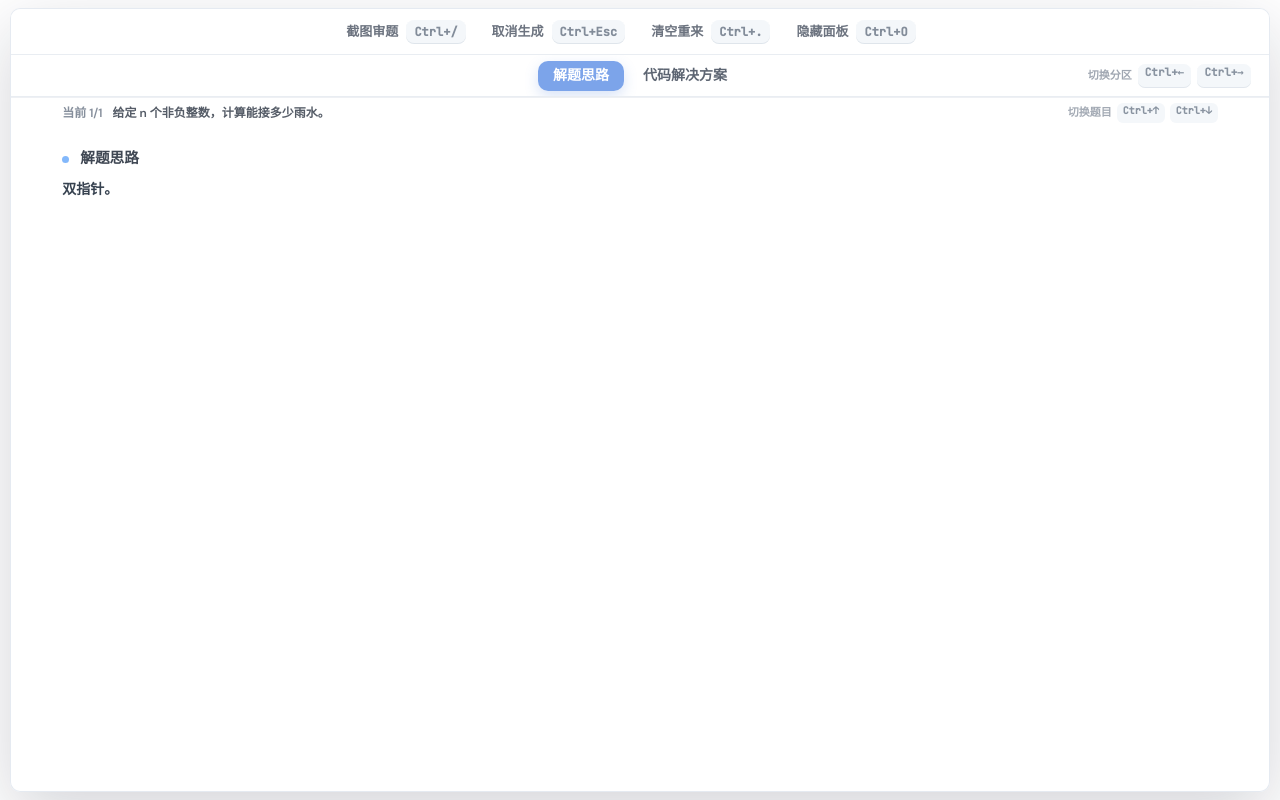
Scenario: InterviewOverlay › uses real accessible buttons for focus tools and section tabs
Expected: the button "截图审题 Ctrl+/" is shown, [346, 20, 466, 44]
Expected: the button "取消生成 Ctrl+Esc" is shown, [492, 20, 625, 44]
Step 1. Click the button "代码解决方案" → [685, 76], box [628, 60, 742, 90]
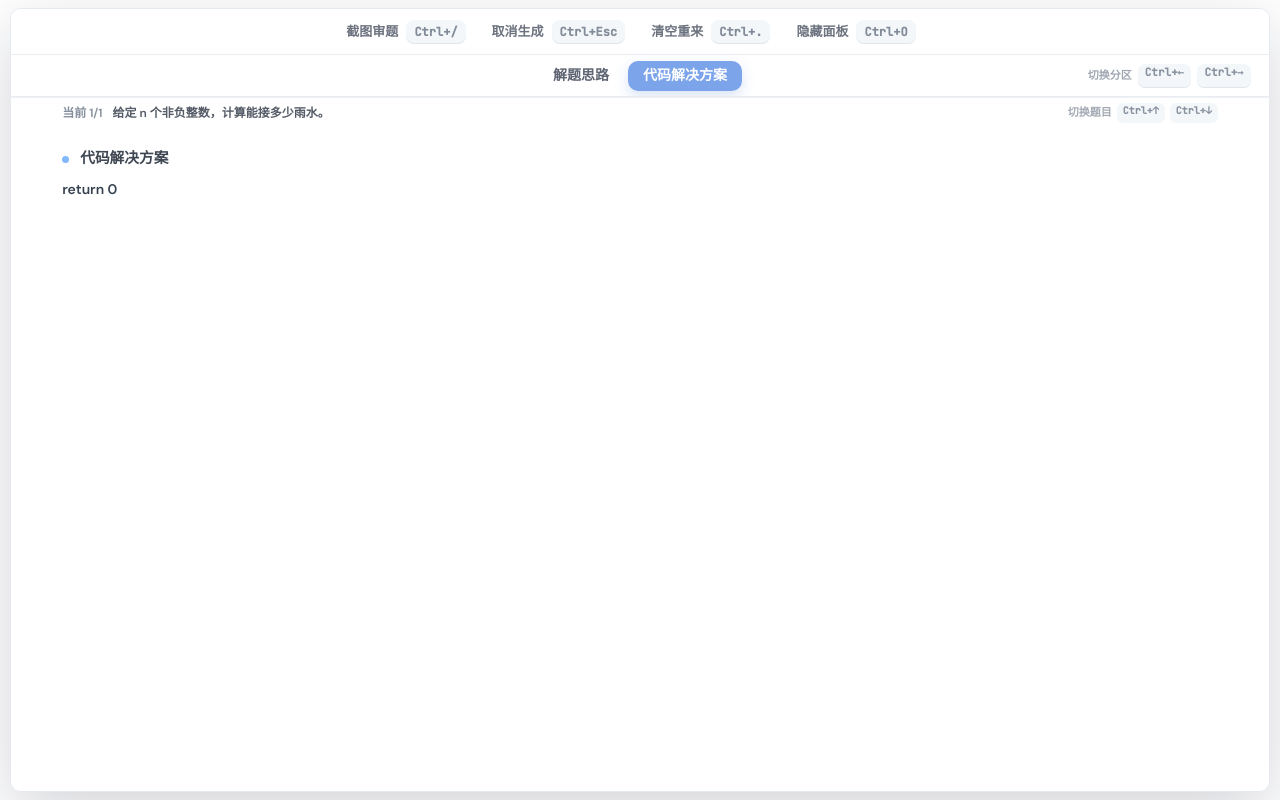
Expected: the text "return 0" is shown, [62, 180, 117, 198]
